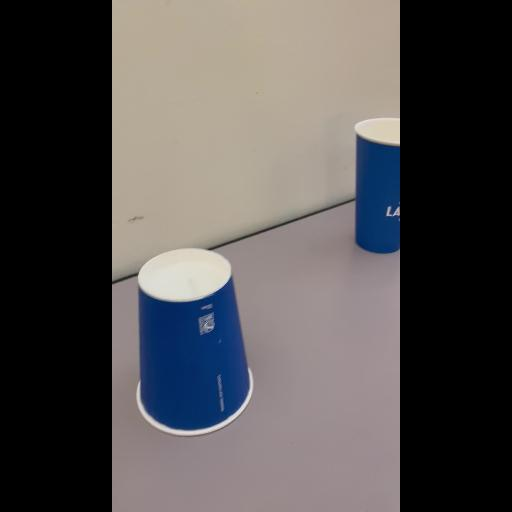lp_paper_cup: (132, 250, 256, 436), (354, 116, 400, 254)
